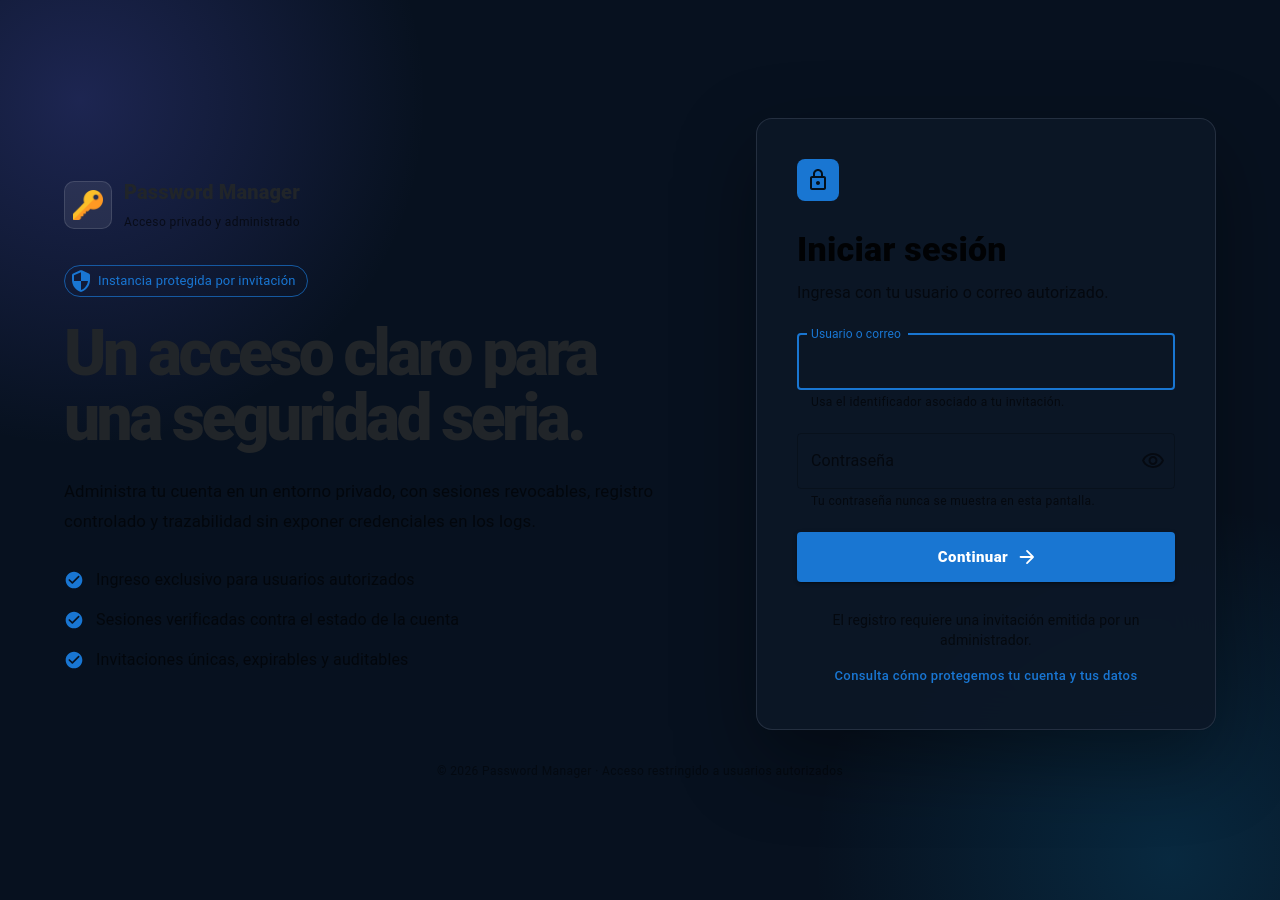
it: muestra las políticas y el estado real de la bóveda
Click the button "Consulta cómo protegemos tu cuenta y tus datos".
click(986, 676)  # box [830,662,1142,689]
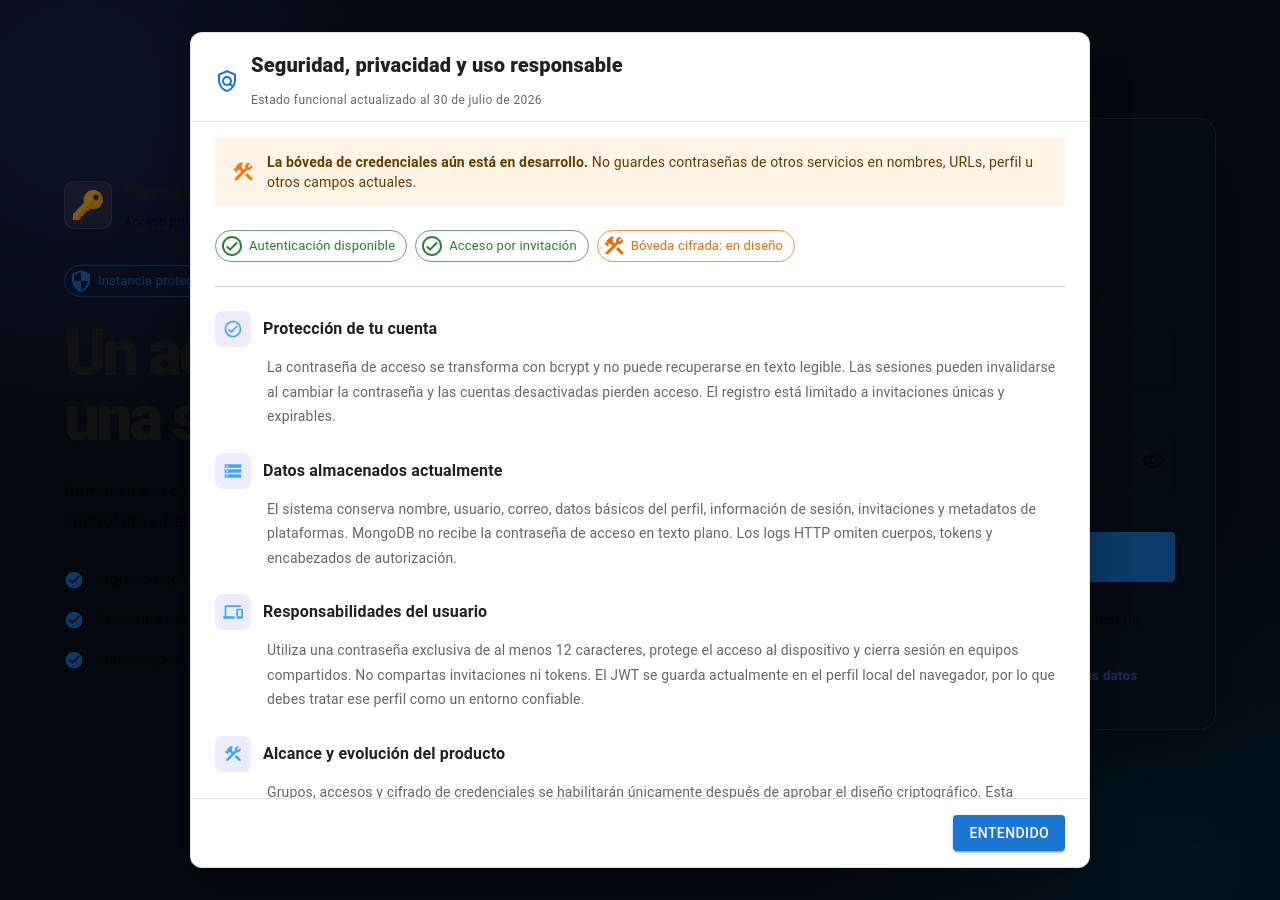
Expected: the heading "Seguridad, privacidad y uso responsable" is shown, [251,49,623,81]
Expected: the text "La bóveda de credenciales aún está en desarrollo." is shown, [267,154,588,170]
